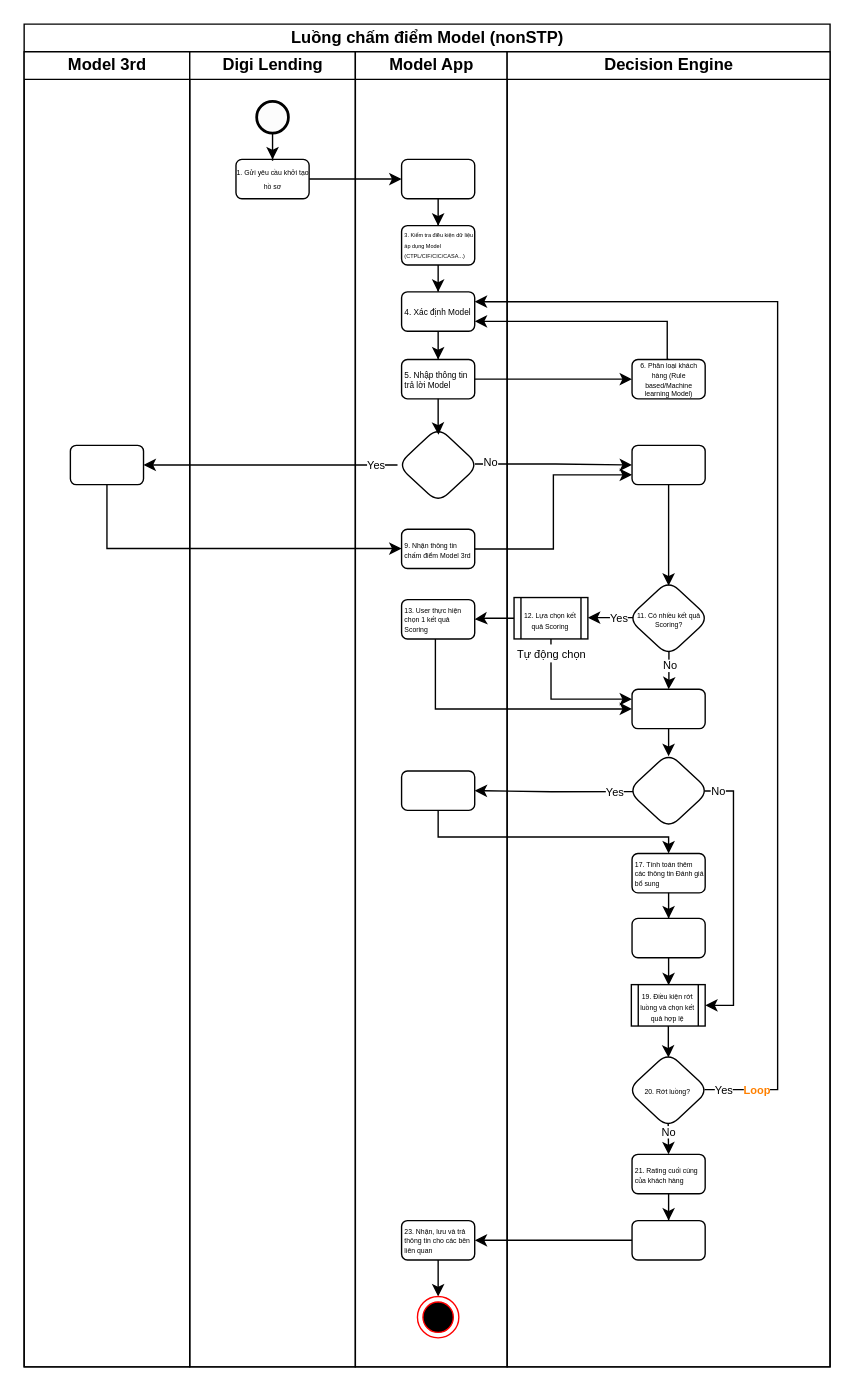
The diagram is 854 pixels wide and 1391 high, and some of its shapes have lost their labels. The centre of each missing label's shape, as x and y in pixels:
10. Chấm điểm Model Internal (Rating/Income/...) và Model 3rd (nếu có): point (668, 464)
14. Scoring được lựa chọn: point (668, 708)
15. Đánh giá bổ sung (Tiêu chí phụ/Dung sai/Override)?: point (668, 790)
16. User nhập thông tin Đánh giá bổ sung: point (437, 790)
18. Scoring sau khi áp dụng Đánh giá bổ sung: point (668, 937)
2. Khởi tạo hồ sơ: point (437, 178)
22. Trả kết qua cho Model App: point (668, 1239)
7. Chấm điểm Model 3rd?: point (437, 464)
8. Trả thông tin chấm điểm Model 3rd: point (106, 464)
